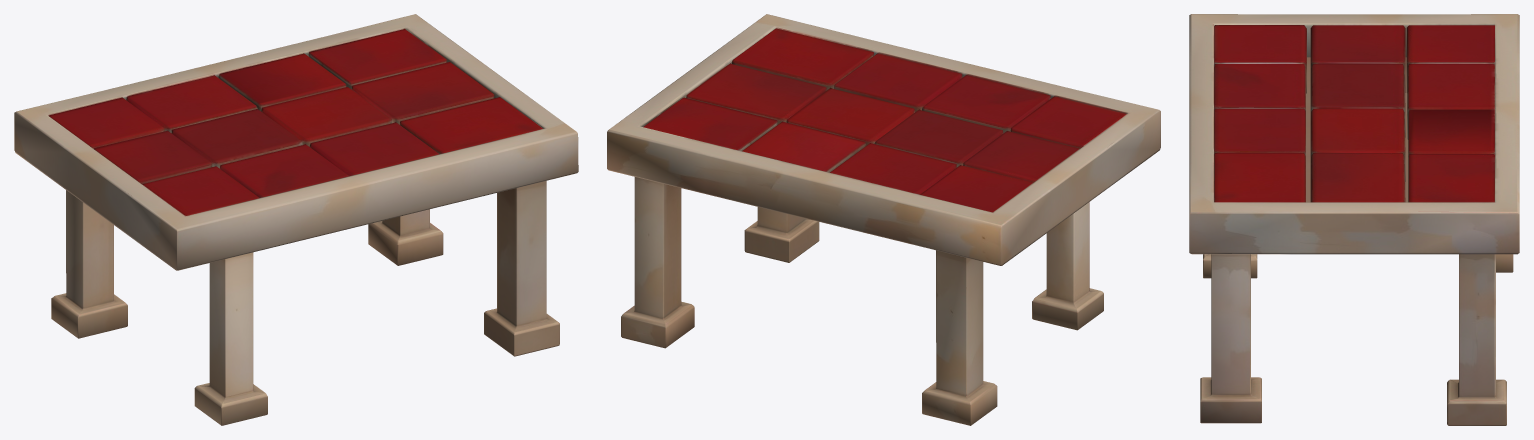
The model's file is service-canopy.glb.
3 views of the same model, side by side, from view 1: azimuth 30°, elevation 25°; view 2: azimuth 150°, elevation 25°; view 3: azimuth 270°, elevation 25° (orthographic). The views are drawn at different scales.
Visible parts, largest first — view 1: tripo_node_65881859-5ec8-4a5a-95ee-ea4f3bbe1815; view 2: tripo_node_65881859-5ec8-4a5a-95ee-ea4f3bbe1815; view 3: tripo_node_65881859-5ec8-4a5a-95ee-ea4f3bbe1815.
Part boxes in pixels (left/top/right/bottom): tripo_node_65881859-5ec8-4a5a-95ee-ea4f3bbe1815: left=14, top=14, right=578, bottom=425; tripo_node_65881859-5ec8-4a5a-95ee-ea4f3bbe1815: left=607, top=14, right=1160, bottom=425; tripo_node_65881859-5ec8-4a5a-95ee-ea4f3bbe1815: left=1189, top=14, right=1519, bottom=425.
Bounding box in the file's own units: 6 × 3.06 × 4.22.
Materials: 1 (1 with a texture image).
